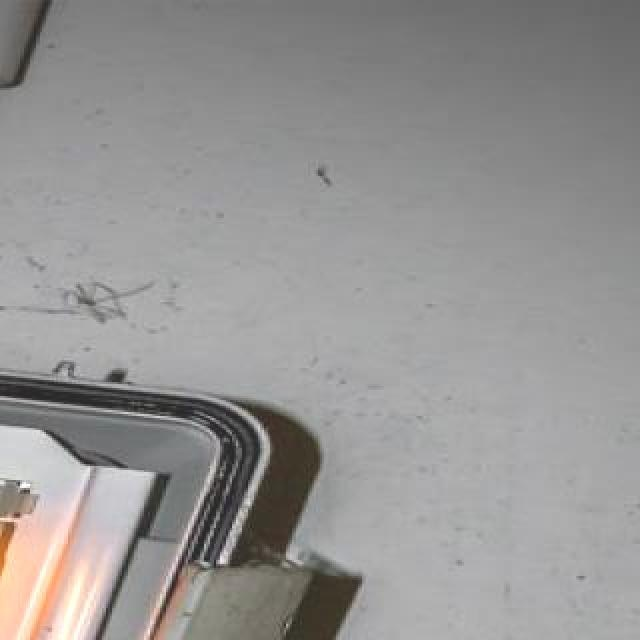fluorescent tube: (0, 432, 58, 640)
